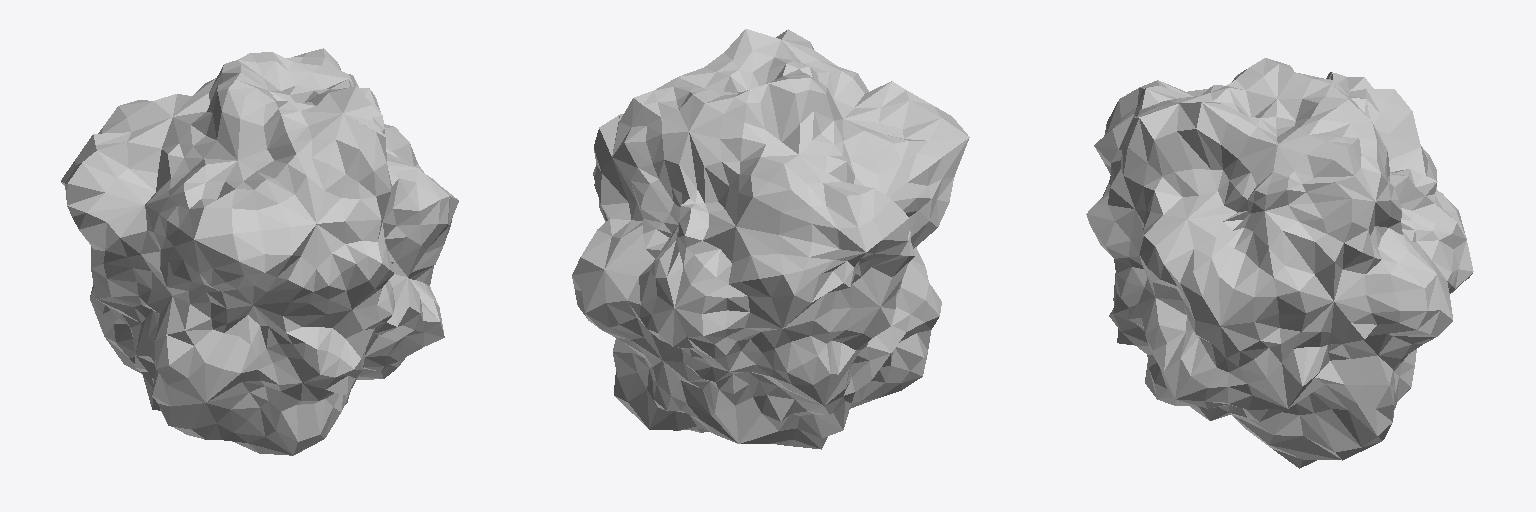
File: Asteroid_less_rocky.obj
3 views of the same model, side by side, from view 1: azimuth 30°, elevation 25°; view 2: azimuth 150°, elevation 25°; view 3: azimuth 270°, elevation 25° (orthographic).
Visible parts, largest first — view 1: Ice_Asteroid; view 2: Ice_Asteroid; view 3: Ice_Asteroid.
Part boxes in pixels (x1,y1,x2,y2): Ice_Asteroid: (61,48,458,455); Ice_Asteroid: (572,29,969,449); Ice_Asteroid: (1086,58,1473,468).
Bounding box in the file's own units: 2.04 × 2.17 × 2.08.